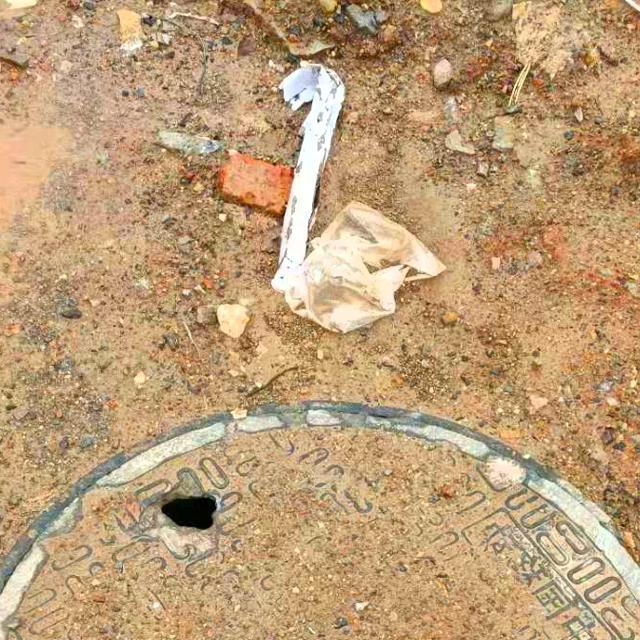broke: (0, 400, 640, 640)
